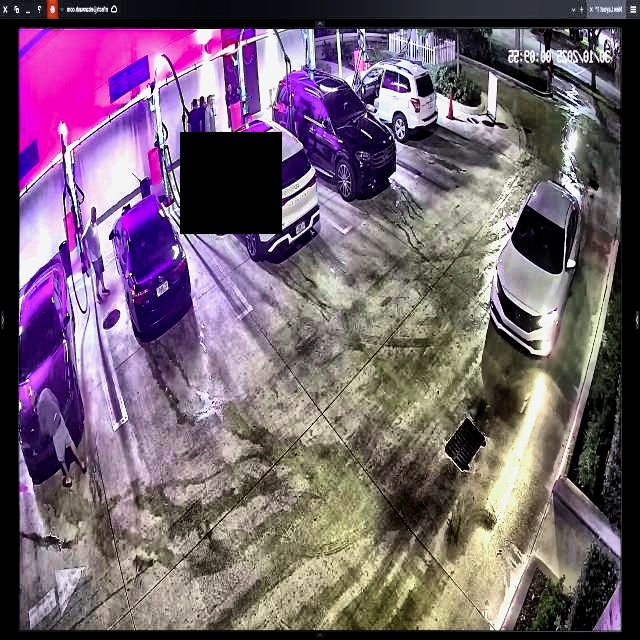Car: (490, 176, 585, 361), (200, 116, 317, 258), (272, 66, 397, 192), (109, 194, 190, 337)
